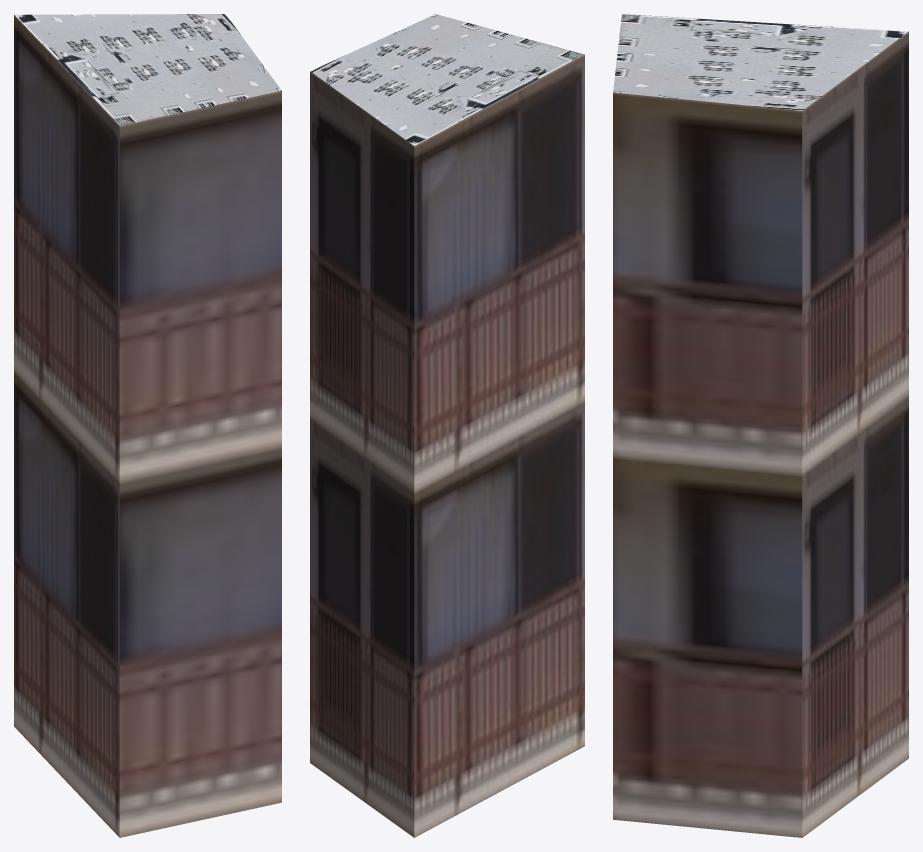
File: ResTex__781.fbx
3 renders of one model, left to right at view 1: azimuth 30°, elevation 25°; view 2: azimuth 150°, elevation 25°; view 3: azimuth 270°, elevation 25°, orthographic. The views are drawn at different scales.
Visible parts, largest first — view 1: CityEngineMaterial_6_m, CityEngineMaterial_8_m; view 2: CityEngineMaterial_6_m, CityEngineMaterial_8_m; view 3: CityEngineMaterial_6_m, CityEngineMaterial_8_m.
Part boxes in pixels (box(x1,y1,x2,y2)): CityEngineMaterial_6_m: box(14, 15, 281, 837); CityEngineMaterial_8_m: box(14, 14, 281, 125); CityEngineMaterial_6_m: box(310, 54, 584, 837); CityEngineMaterial_8_m: box(310, 14, 584, 145); CityEngineMaterial_6_m: box(613, 31, 908, 837); CityEngineMaterial_8_m: box(613, 14, 908, 110).
Size of the model in its own units: 1.71 by 6 by 2.21.
Materials: 2 (2 with a texture image).
